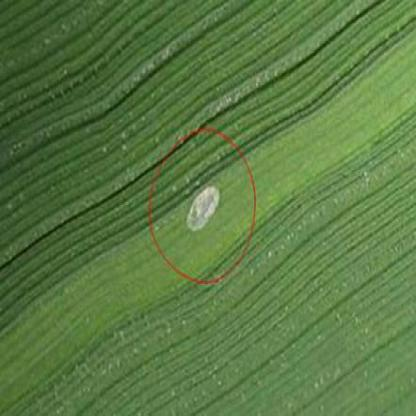leaf-folder: (174, 178, 230, 254)
